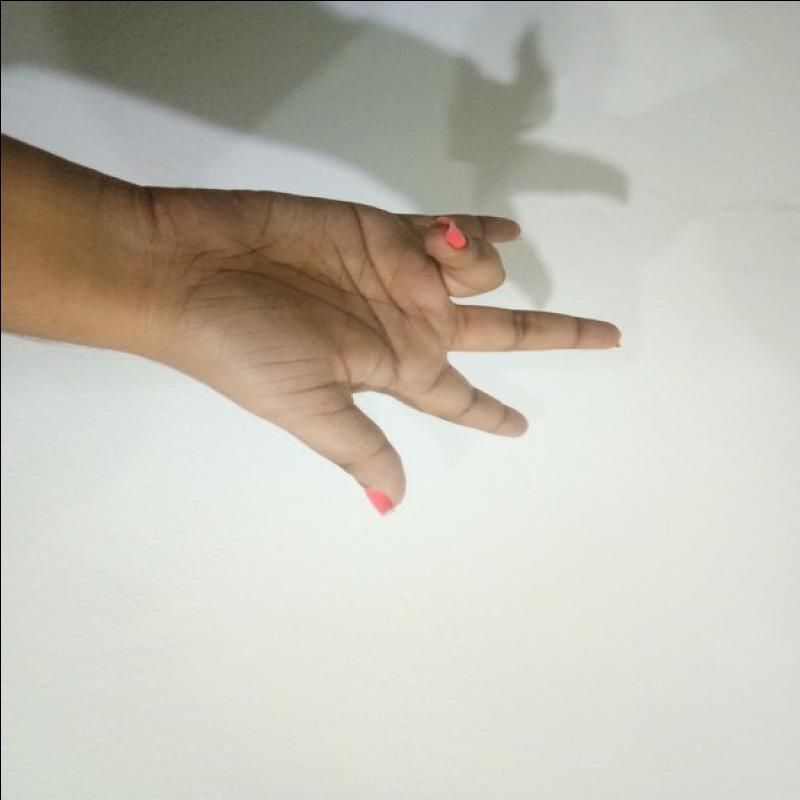Pathaaka: (149, 137, 634, 534)
